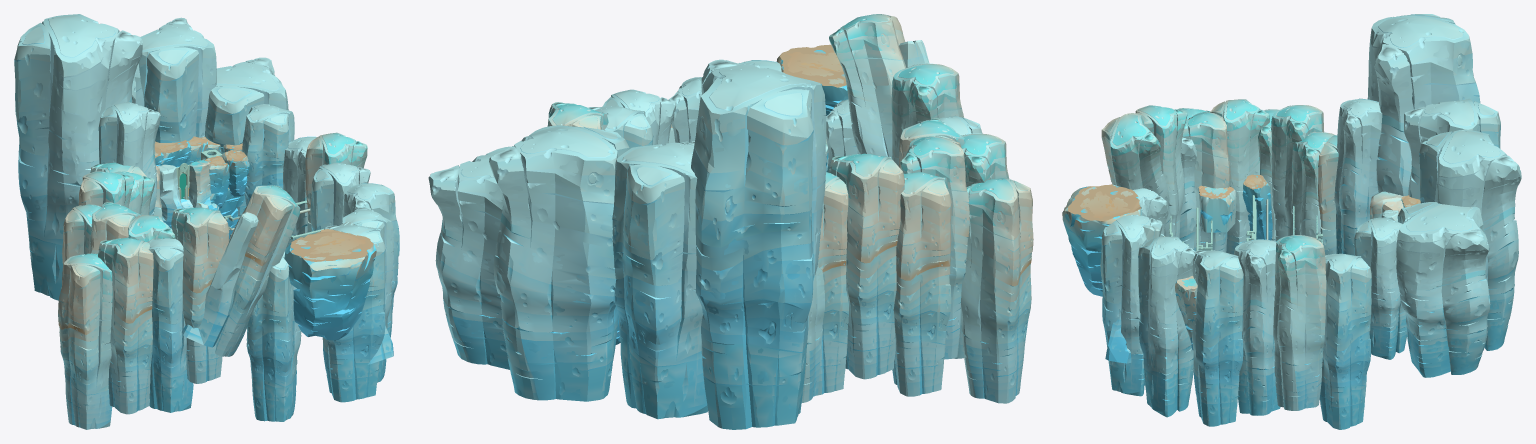
File: sm_l3_ji_guan.glb
The picture shows the model from 3 angles, left to right: view 1: azimuth 30°, elevation 25°; view 2: azimuth 150°, elevation 25°; view 3: azimuth 270°, elevation 25°; orthographic projection. The views are drawn at different scales.
Visible parts, largest first — view 1: TFD_Canyon_Cliff_01B_LOD0_11__1_.004, TFD_Canyon_Cliff_01A_LOD0_15__1_, TFD_Rock_Large_15B_LOD0_7__1_.003, TFD_Canyon_Cliff_01A_LOD0_31__1_, TFD_Canyon_Cliff_01B_LOD0_11__1_.002, TFD_Canyon_Cliff_01B_LOD0_13__1_, TFD_Canyon_Cliff_01B_LOD0_3__1_, TFD_Canyon_Cliff_01A_LOD0_14__1_, TFD_Canyon_Cliff_01A_LOD0_16__1_, TFD_Canyon_Cliff_01B_LOD0_13__2_.001, TFD_Canyon_Cliff_01B_LOD0_11__1_.003, TFD_Canyon_Cliff_01B_LOD0_5__1_ (+21 smaller); view 2: TFD_Canyon_Cliff_01B_LOD0_11__1_.004, TFD_Canyon_Cliff_01B_LOD0_11__1_.002, TFD_Canyon_Cliff_01B_LOD0_11__1_.001, TFD_Canyon_Cliff_01A_LOD0_15__1_, TFD_Canyon_Cliff_01B_LOD0_11__1_.003, TFD_Canyon_Cliff_01A_LOD0_5__1_, TFD_Canyon_Cliff_01A_LOD0_27__1_, TFD_Canyon_Cliff_01A_LOD0_14__1_, TFD_Canyon_Cliff_01A_LOD0_8__1_, TFD_Canyon_Cliff_01A_LOD0_7__1_, TFD_Canyon_Cliff_01A_LOD0_16__1_, TFD_Rock_Large_15B_LOD0_7__1_.003 (+9 smaller); view 3: TFD_Canyon_Cliff_01B_LOD0_11__1_.003, TFD_Canyon_Cliff_01B_LOD0_11__1_.004, TFD_Canyon_Cliff_01B_LOD0_11__1_.002, TFD_Canyon_Cliff_01A_LOD0_4__1_, TFD_Canyon_Cliff_01B_LOD0_13__2_, TFD_Canyon_Cliff_01B_LOD0_2__1_, TFD_Canyon_Cliff_01B_LOD0_22__1_, TFD_Canyon_Cliff_01B_LOD0_13__2_.001, TFD_Canyon_Cliff_01B_LOD0_15__1_, TFD_Canyon_Cliff_01B_LOD0_5__1_, TFD_Canyon_Cliff_01B_LOD0_11__1_, TFD_Rock_Large_15B_LOD0_7__1_.003 (+16 smaller).
Part boxes in pixels (left/top/right/bottom): TFD_Canyon_Cliff_01B_LOD0_11__1_.004: left=14, top=14, right=142, bottom=300; TFD_Canyon_Cliff_01A_LOD0_15__1_: left=58, top=253, right=112, bottom=429; TFD_Rock_Large_15B_LOD0_7__1_.003: left=284, top=229, right=376, bottom=340; TFD_Canyon_Cliff_01A_LOD0_31__1_: left=98, top=238, right=153, bottom=414; TFD_Canyon_Cliff_01B_LOD0_11__1_.002: left=138, top=17, right=216, bottom=229; TFD_Canyon_Cliff_01B_LOD0_13__1_: left=246, top=251, right=301, bottom=421; TFD_Canyon_Cliff_01B_LOD0_3__1_: left=148, top=238, right=193, bottom=412; TFD_Canyon_Cliff_01A_LOD0_14__1_: left=215, top=185, right=300, bottom=356; TFD_Canyon_Cliff_01A_LOD0_16__1_: left=171, top=207, right=229, bottom=383; TFD_Canyon_Cliff_01B_LOD0_13__2_.001: left=322, top=225, right=385, bottom=402; TFD_Canyon_Cliff_01B_LOD0_11__1_.003: left=205, top=57, right=288, bottom=219; TFD_Canyon_Cliff_01B_LOD0_5__1_: left=98, top=102, right=160, bottom=215; TFD_Canyon_Cliff_01B_LOD0_11__1_.004: left=691, top=59, right=826, bottom=429; TFD_Canyon_Cliff_01B_LOD0_11__1_.002: left=489, top=125, right=629, bottom=401; TFD_Canyon_Cliff_01B_LOD0_11__1_.001: left=612, top=141, right=708, bottom=419; TFD_Canyon_Cliff_01A_LOD0_15__1_: left=961, top=177, right=1033, bottom=403; TFD_Canyon_Cliff_01B_LOD0_11__1_.003: left=428, top=146, right=510, bottom=369; TFD_Canyon_Cliff_01A_LOD0_5__1_: left=829, top=153, right=904, bottom=379; TFD_Canyon_Cliff_01A_LOD0_27__1_: left=892, top=172, right=951, bottom=396; TFD_Canyon_Cliff_01A_LOD0_14__1_: left=829, top=14, right=906, bottom=158; TFD_Canyon_Cliff_01A_LOD0_8__1_: left=816, top=172, right=848, bottom=395; TFD_Canyon_Cliff_01A_LOD0_7__1_: left=900, top=136, right=969, bottom=359; TFD_Canyon_Cliff_01A_LOD0_16__1_: left=891, top=63, right=963, bottom=165; TFD_Rock_Large_15B_LOD0_7__1_.003: left=776, top=44, right=848, bottom=115; TFD_Canyon_Cliff_01B_LOD0_11__1_.003: left=1396, top=202, right=1490, bottom=377; TFD_Canyon_Cliff_01B_LOD0_11__1_.004: left=1367, top=14, right=1480, bottom=195; TFD_Canyon_Cliff_01B_LOD0_11__1_.002: left=1419, top=130, right=1521, bottom=350; TFD_Canyon_Cliff_01A_LOD0_4__1_: left=1273, top=235, right=1326, bottom=410; TFD_Canyon_Cliff_01B_LOD0_13__2_: left=1138, top=236, right=1195, bottom=417; TFD_Canyon_Cliff_01B_LOD0_2__1_: left=1192, top=250, right=1243, bottom=426; TFD_Canyon_Cliff_01B_LOD0_22__1_: left=1319, top=253, right=1371, bottom=429; TFD_Canyon_Cliff_01B_LOD0_13__2_.001: left=1100, top=214, right=1162, bottom=396; TFD_Canyon_Cliff_01B_LOD0_15__1_: left=1234, top=239, right=1280, bottom=415; TFD_Canyon_Cliff_01B_LOD0_5__1_: left=1334, top=98, right=1382, bottom=255; TFD_Canyon_Cliff_01B_LOD0_11__1_: left=1354, top=217, right=1406, bottom=359; TFD_Rock_Large_15B_LOD0_7__1_.003: left=1062, top=184, right=1141, bottom=296.
Size of the model in its own units: 244 by 209 by 288.
Materials: 5 (4 with a texture image).
